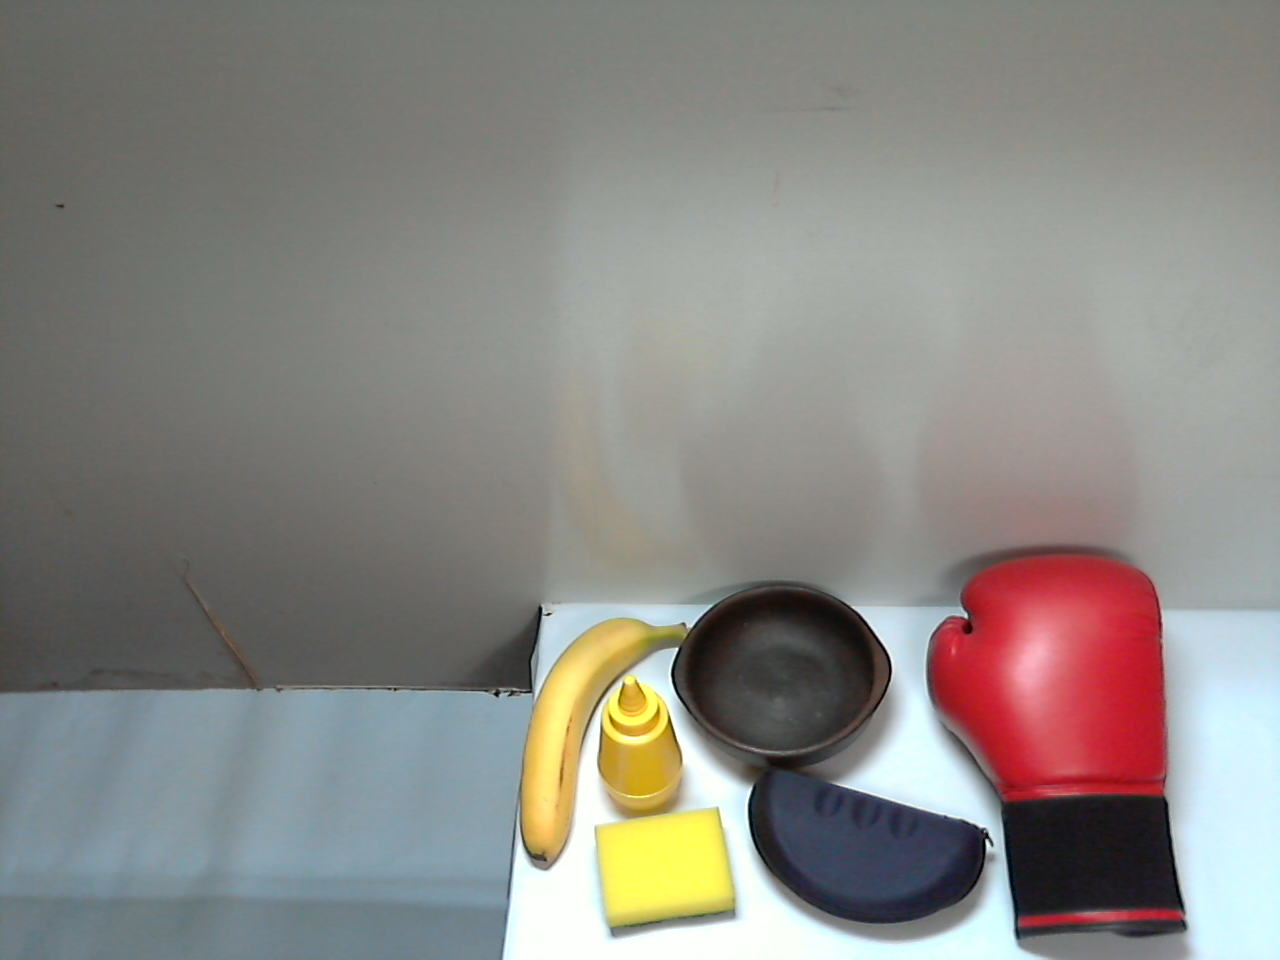azucarero: (595, 720, 745, 873)
colador: (749, 588, 1174, 944)
estuche: (507, 639, 741, 778)
jabon: (667, 866, 795, 960)
pelota: (534, 854, 641, 960)
pescado: (427, 735, 580, 951)
